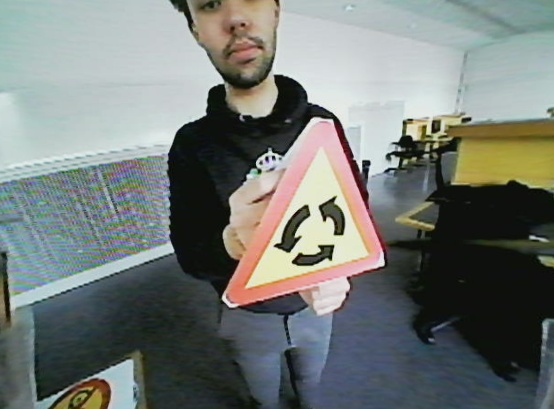roundabout_warning: (233, 119, 397, 278)
